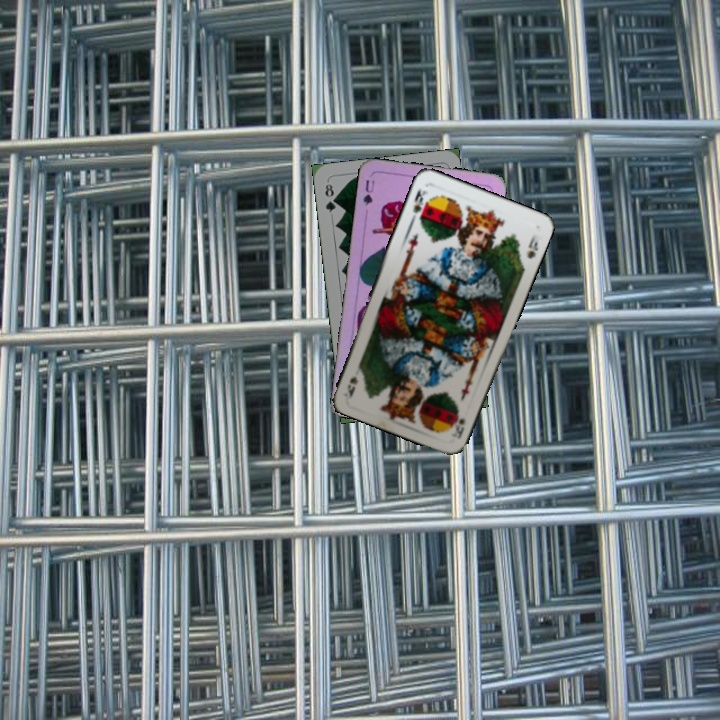G8: (321, 180, 339, 215)
GU: (359, 176, 377, 208)
SK: (408, 184, 430, 222), (447, 406, 468, 441)
